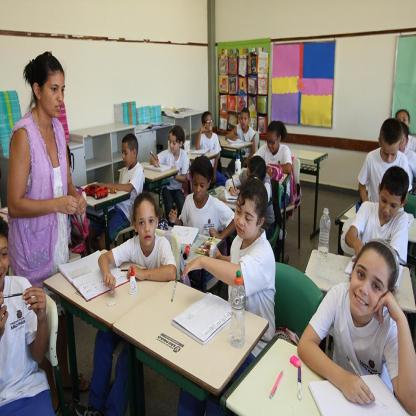book: (308, 372, 414, 416), (170, 290, 244, 346), (60, 248, 133, 300), (344, 250, 404, 291), (171, 217, 199, 250), (148, 156, 174, 173), (223, 186, 245, 205), (401, 210, 416, 232), (192, 144, 212, 155), (228, 137, 246, 148)
